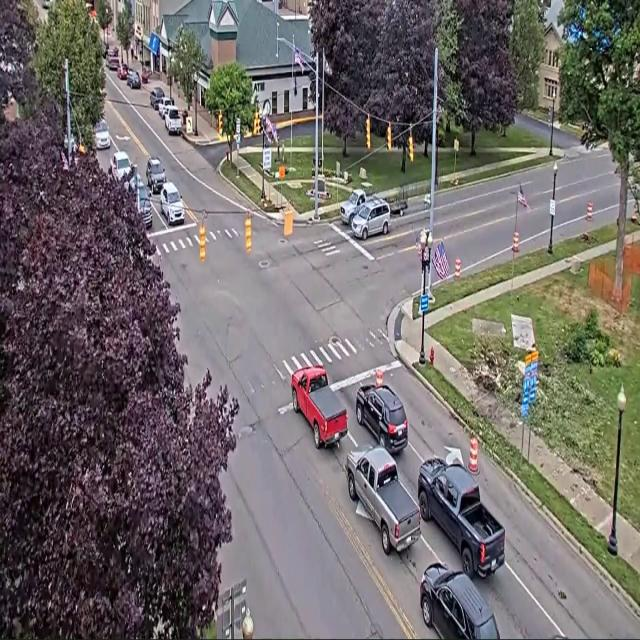car: (420, 563, 499, 639), (356, 384, 408, 453), (352, 197, 390, 240), (160, 183, 184, 225), (138, 180, 152, 229), (146, 158, 165, 193), (110, 151, 132, 181), (165, 106, 181, 135), (94, 120, 110, 149), (158, 96, 174, 119), (150, 87, 164, 110), (127, 70, 141, 88), (107, 55, 119, 71), (117, 64, 128, 79), (141, 68, 150, 83), (126, 68, 133, 85), (71, 134, 77, 152), (103, 42, 109, 59), (108, 47, 119, 56), (42, 0, 52, 9)
traffic signal: (245, 215, 251, 253), (199, 224, 205, 261), (253, 110, 261, 136), (386, 123, 392, 151), (366, 116, 370, 149), (409, 133, 413, 161), (218, 111, 222, 136), (548, 107, 552, 123)
truck: (418, 457, 505, 578), (345, 446, 420, 554), (291, 367, 347, 448), (340, 189, 379, 226), (340, 189, 367, 226), (386, 187, 407, 215)
